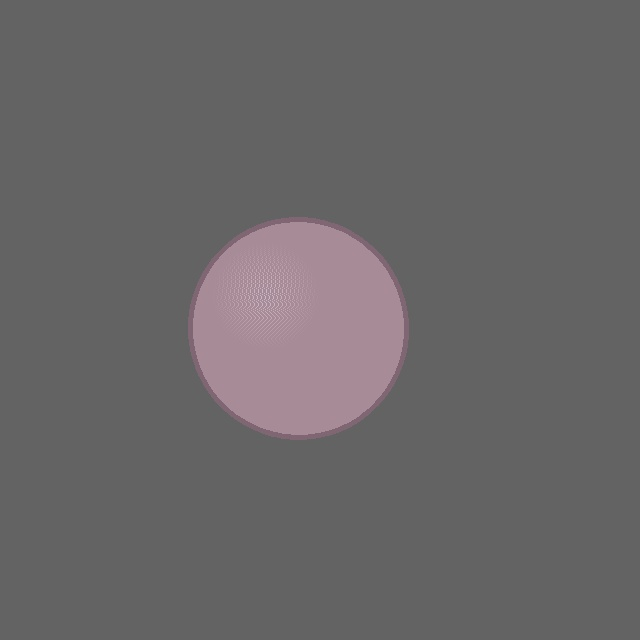lens: (190, 219, 406, 437)
